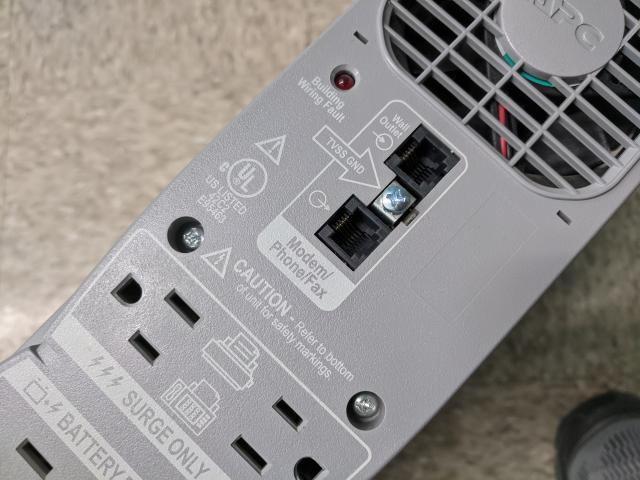CRS: (377, 184, 412, 214), (175, 223, 210, 252), (352, 392, 382, 421)
